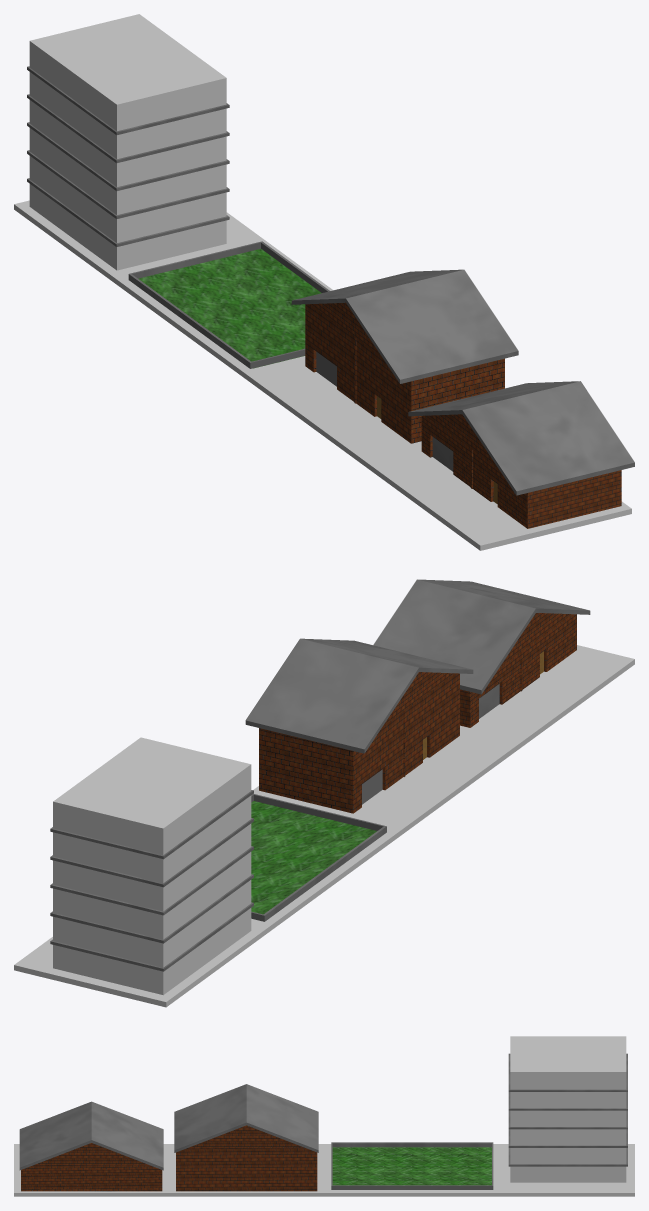
File: Bloco 1.fbx
3 renders of one model, top to bottom at view 1: azimuth 30°, elevation 25°; view 2: azimuth 150°, elevation 25°; view 3: azimuth 270°, elevation 25°, orthographic. The views are drawn at different scales.
Visible parts, largest first — view 1: Cube; view 2: Cube; view 3: Cube.
Boxes of the visible parts, bbox=[...] form: Cube: bbox=[14, 14, 634, 550]; Cube: bbox=[14, 579, 634, 1007]; Cube: bbox=[14, 1036, 634, 1196].
Bounding box in the file's own units: 1571 × 1620 × 8000.
